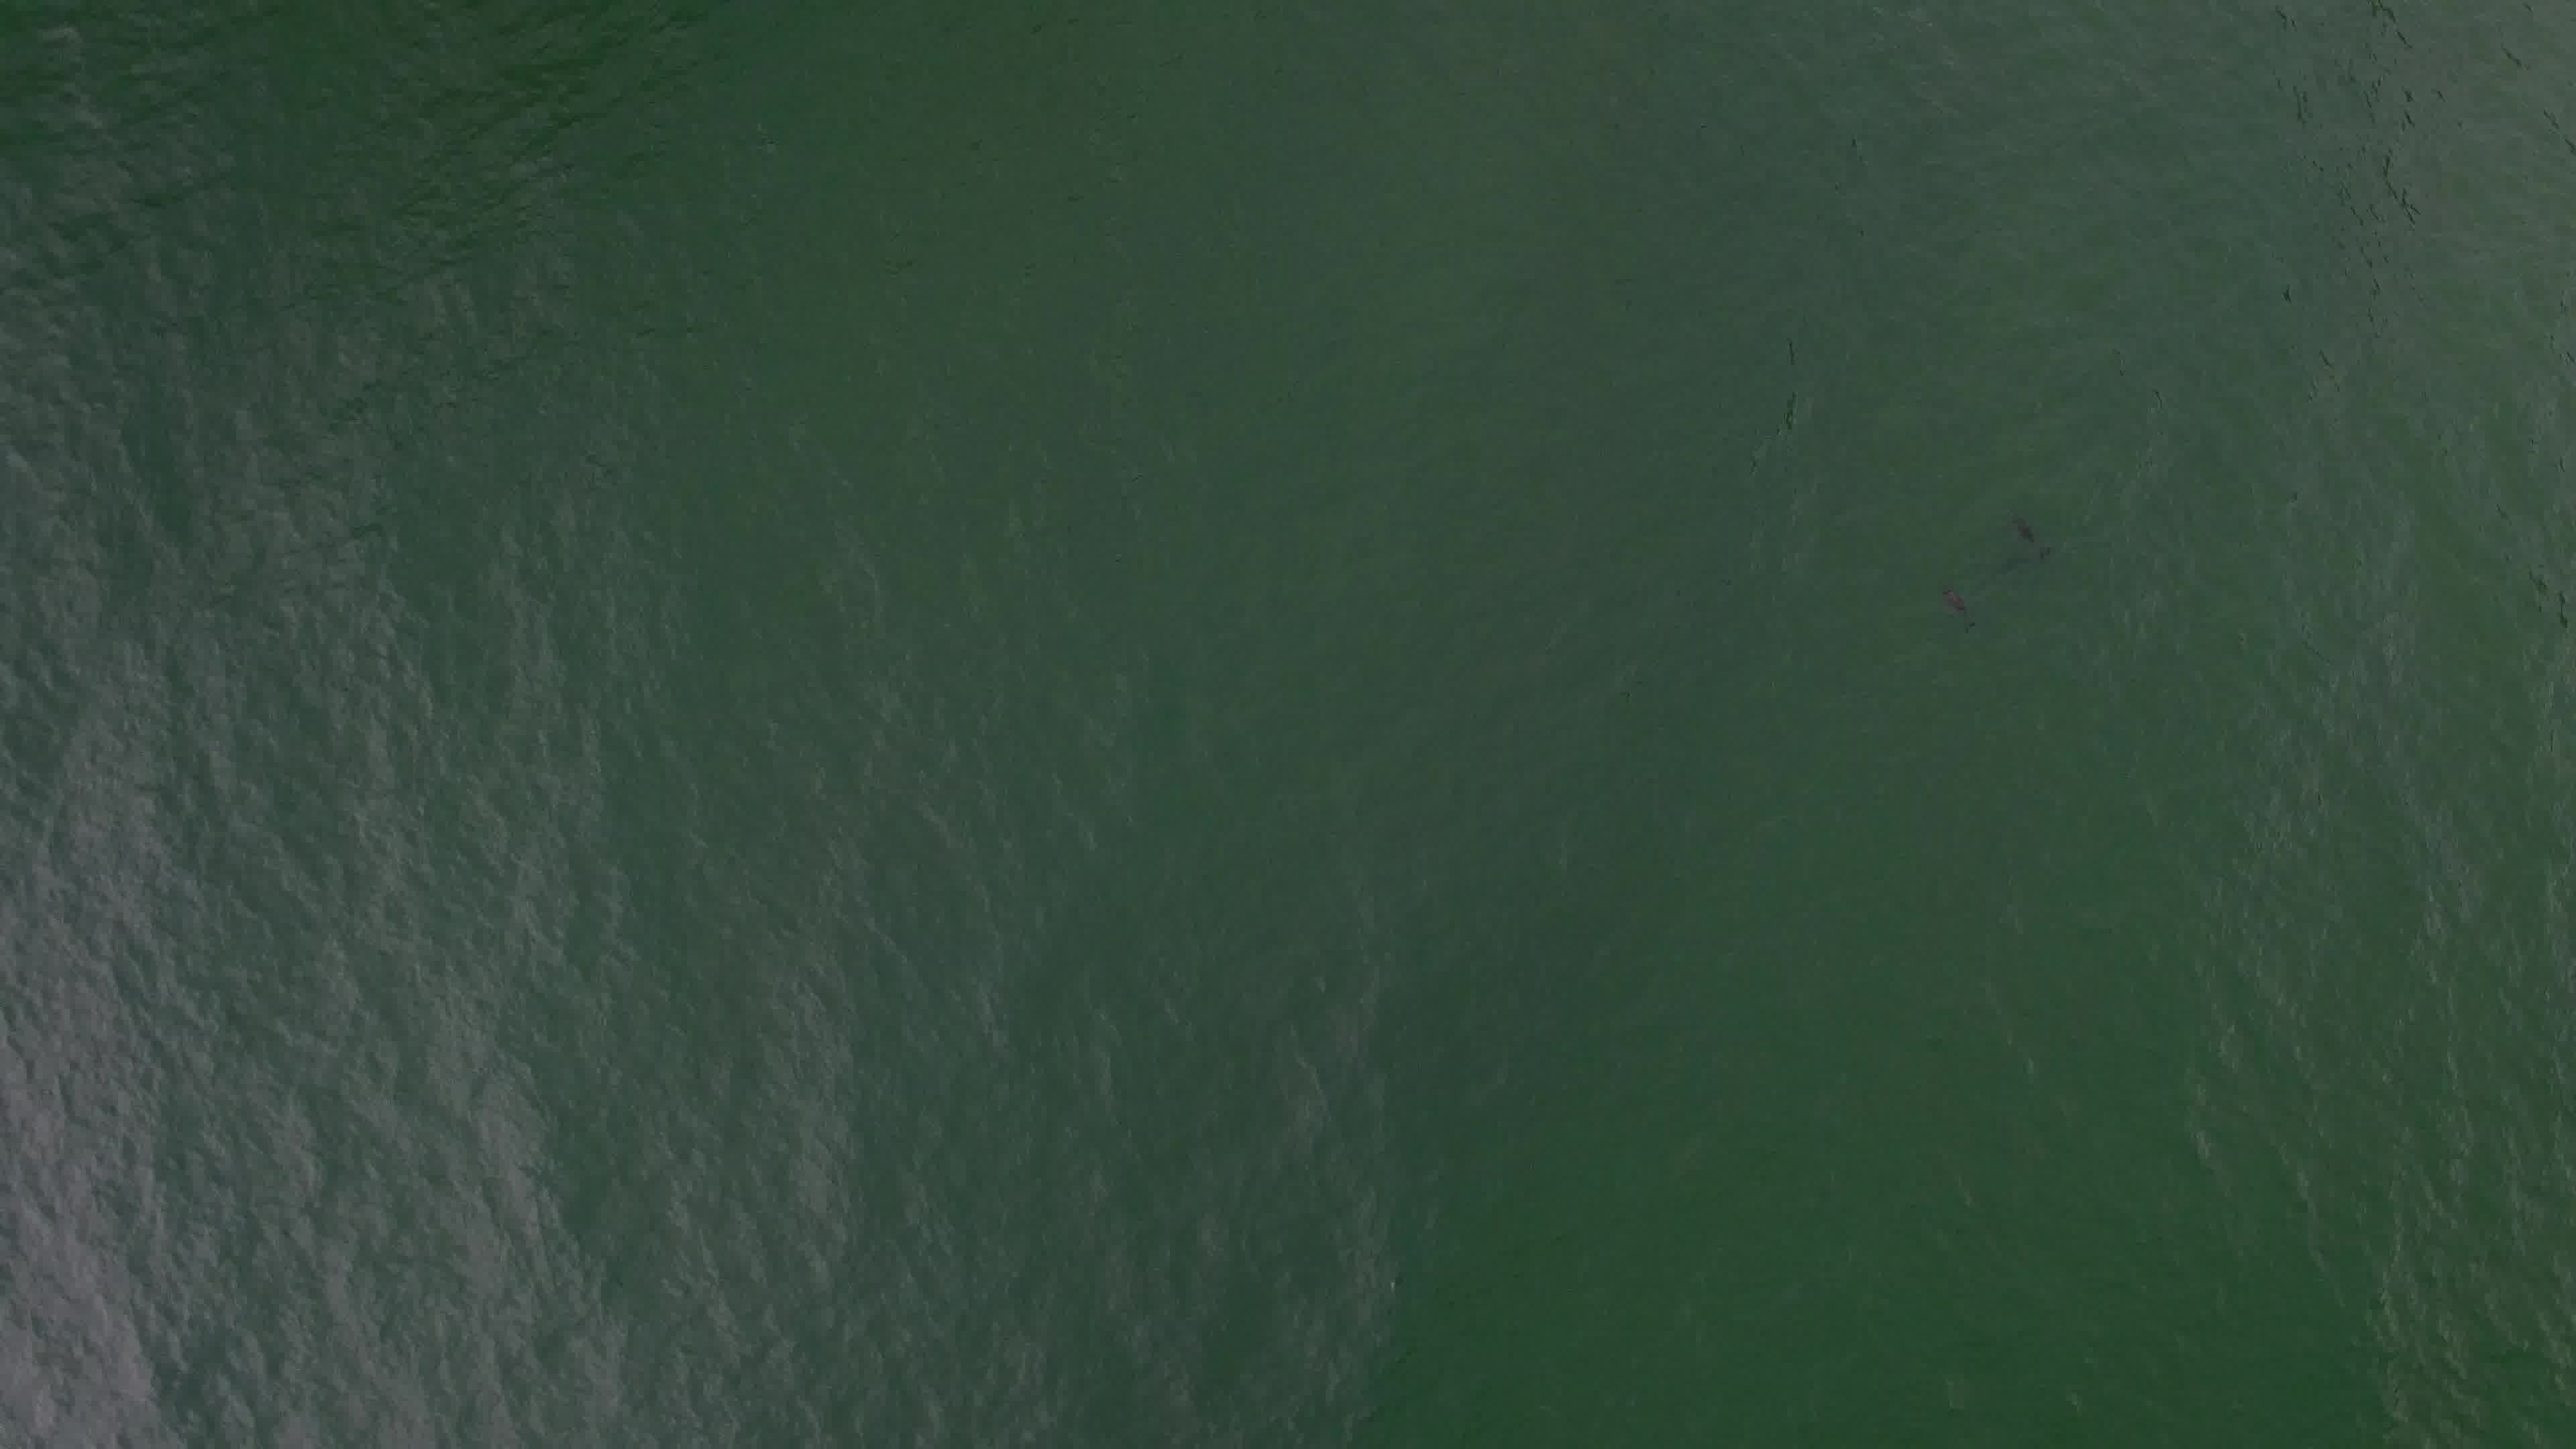dolphin: (1980, 494, 2068, 571), (1916, 557, 1990, 649)
